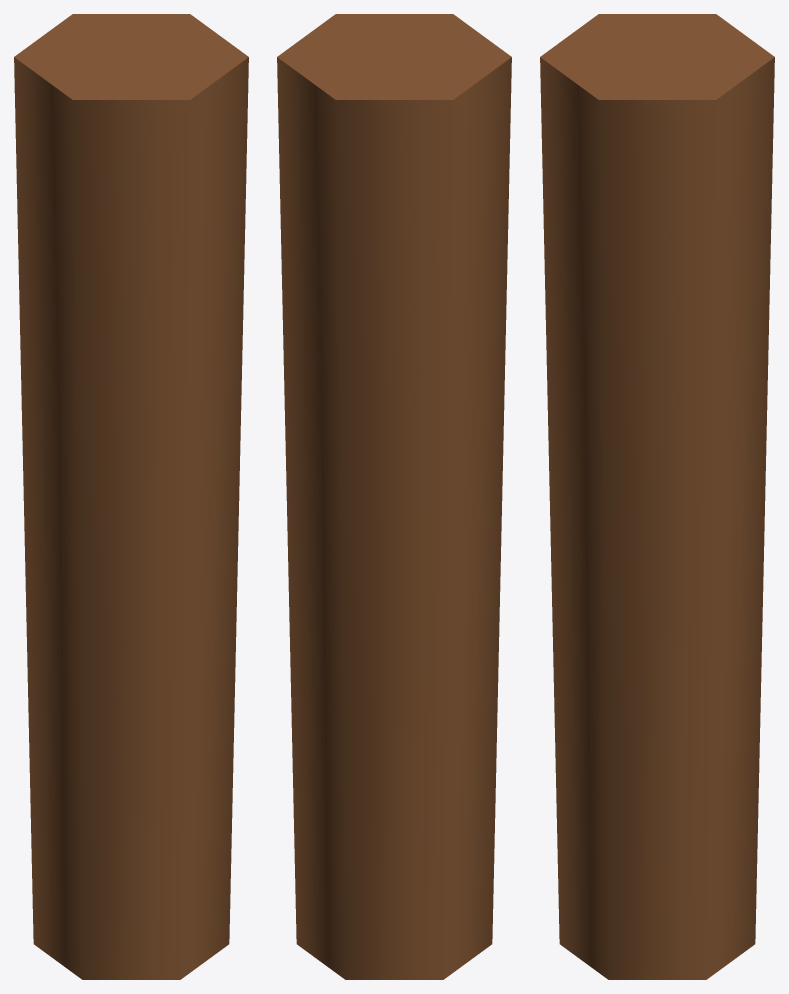
Rendered from driftwood.glb.
3 renders of one model, left to right at view 1: azimuth 30°, elevation 25°; view 2: azimuth 150°, elevation 25°; view 3: azimuth 270°, elevation 25°, orthographic.
Parts seen in each view (by area): view 1: driftwood; view 2: driftwood; view 3: driftwood.
Part boxes in pixels (box(x1,y1,x2,y2)): driftwood: box(14, 14, 248, 979); driftwood: box(277, 14, 511, 979); driftwood: box(540, 14, 774, 979).
Size of the model in its own units: 0.2078 by 1 by 0.24.
